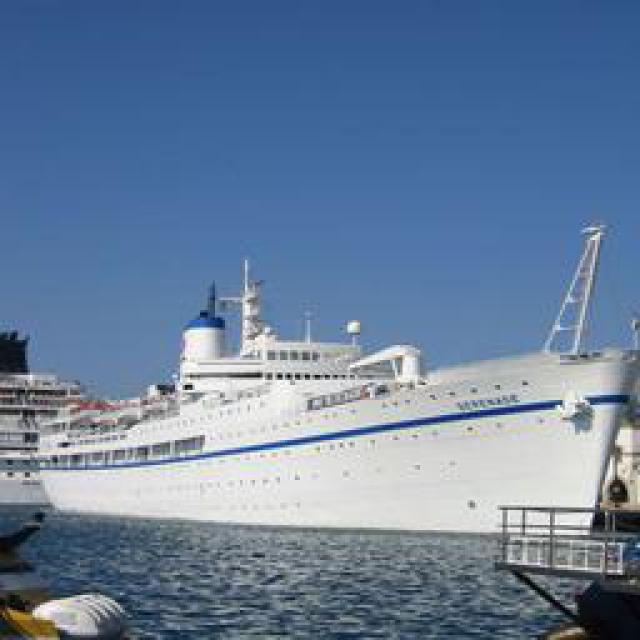Ship: (21, 215, 640, 546)
